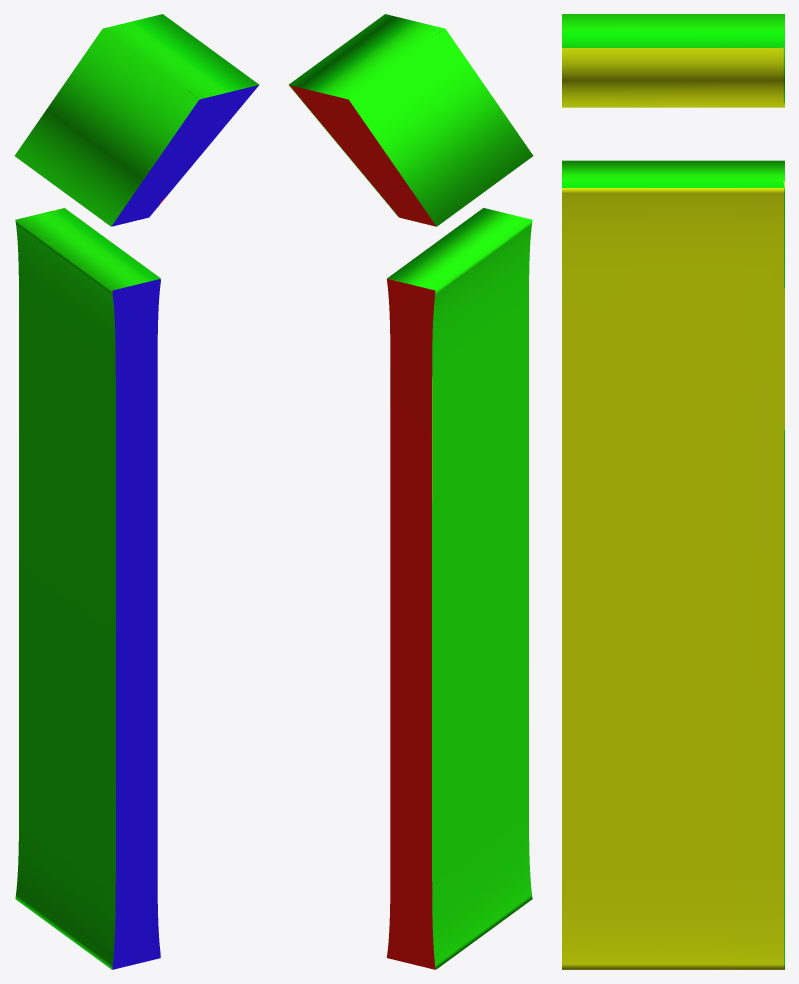
3 views of the same model, side by side, from view 1: azimuth 30°, elevation 25°; view 2: azimuth 150°, elevation 25°; view 3: azimuth 270°, elevation 25° (orthographic). The views are drawn at different scales.
Visible parts, largest first — view 1: Text; view 2: Text; view 3: Text.
Boxes of the visible parts, x1=… form: Text: x1=14, y1=14, x2=259, y2=969; Text: x1=288, y1=14, x2=533, y2=969; Text: x1=562, y1=14, x2=784, y2=969.
Size of the model in its own units: 0.1328 by 0.7261 by 0.15.
1 material, 1 textured.
